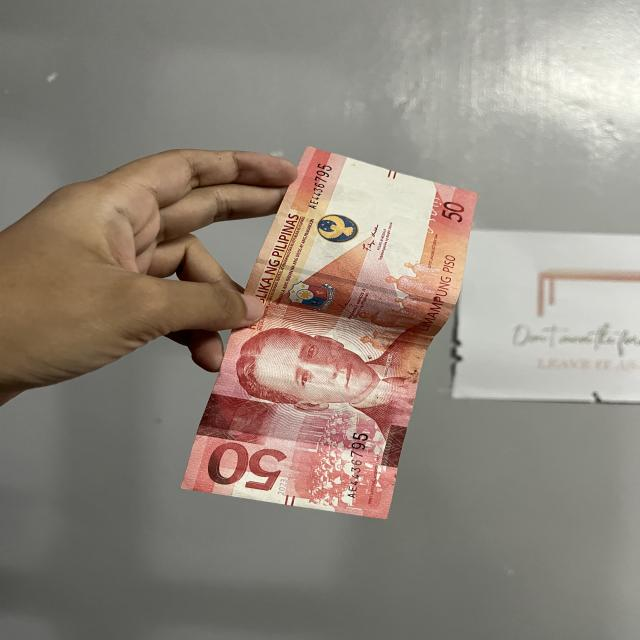concealed_value: (199, 396, 283, 442)
value: (200, 434, 288, 504)
